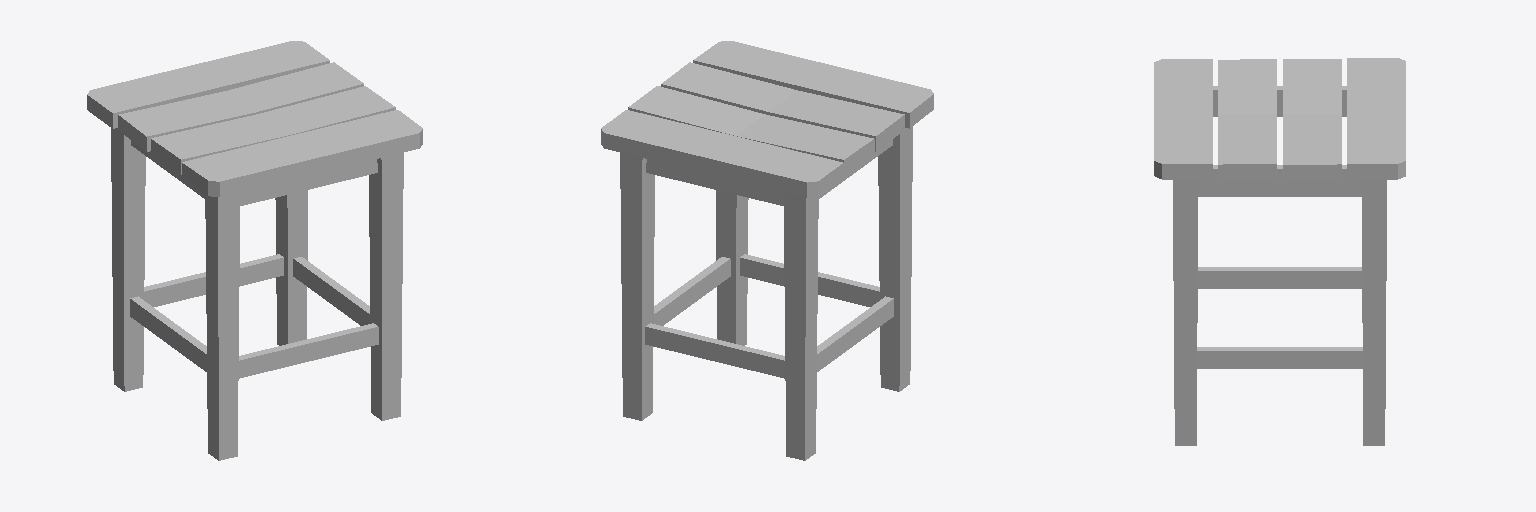
Rendered from chair_mp_1_3.obj.
3 renders of one model, left to right at view 1: azimuth 30°, elevation 25°; view 2: azimuth 150°, elevation 25°; view 3: azimuth 270°, elevation 25°, orthographic.
Visible parts, largest first — view 1: chair_mp_1_3; view 2: chair_mp_1_3; view 3: chair_mp_1_3.
Part boxes in pixels (left/top/right/bottom): chair_mp_1_3: left=87, top=41, right=422, bottom=460; chair_mp_1_3: left=601, top=41, right=933, bottom=460; chair_mp_1_3: left=1154, top=58, right=1405, bottom=445.
Size of the model in its own units: 0.4707 by 0.594 by 0.47.